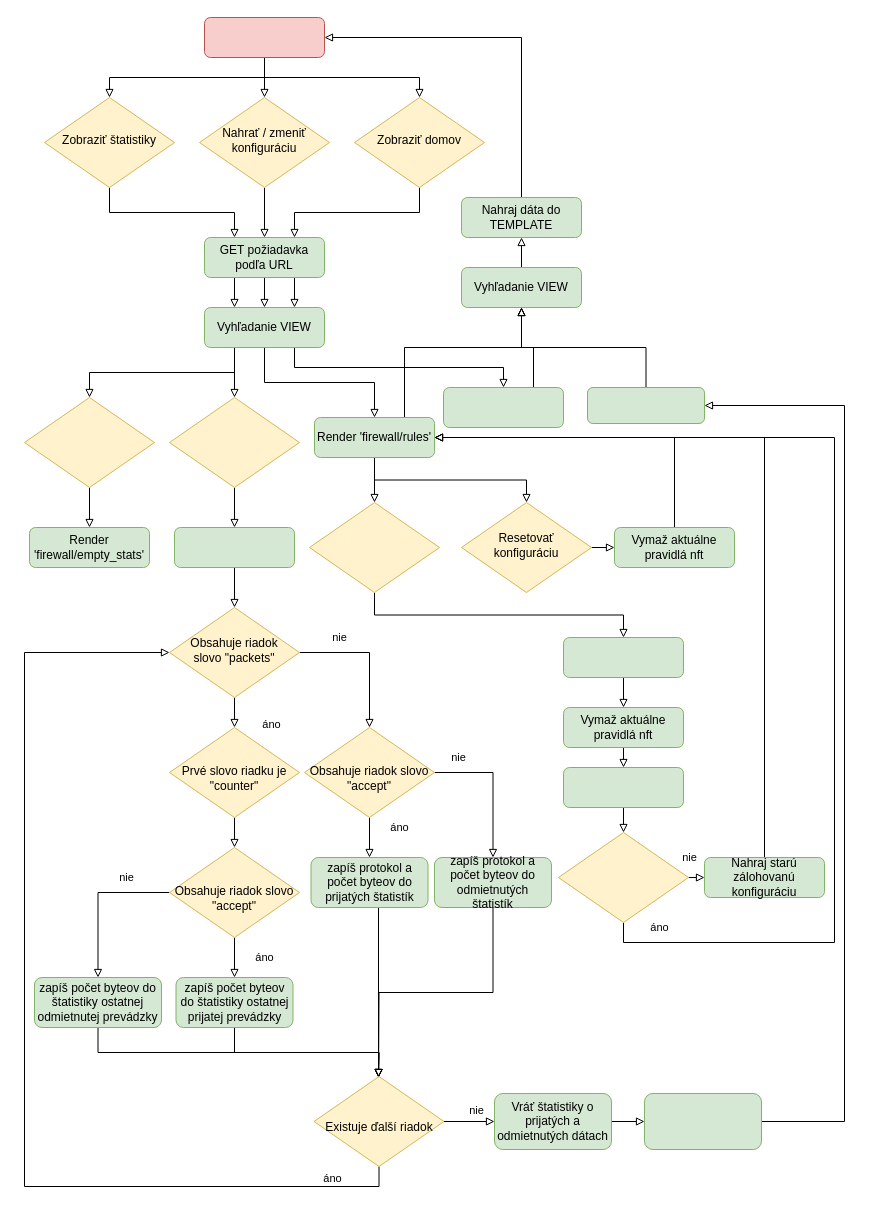
Some shapes in this 870 by 1212 pixel diagram are drawn without their labels. The centre of each missing label's shape, as x and y in pixels:
"Firewall má konfiguráciu" goes at point 234,442.
"firewall nemá konfiguráciu" goes at point 89,442.
"Nahraj novú konfiguráciu" goes at point 623,787.
"Nahrať konfiguráciu" goes at point 374,547.
"Podarilo sa konfiguráciu nahrať" goes at point 623,877.
"Render 'firewall/home'" goes at point 503,407.
"Render 'firewall/stats'" goes at point 645,405.
"Vykresli grafy z dát" goes at point 703,1121.
"Zálohuj aktuálnu konfiguráciu" goes at point 623,657.
"Získanie dát z nft" goes at point 234,547.
"Štart - webové rozhranie" goes at point 264,37.
